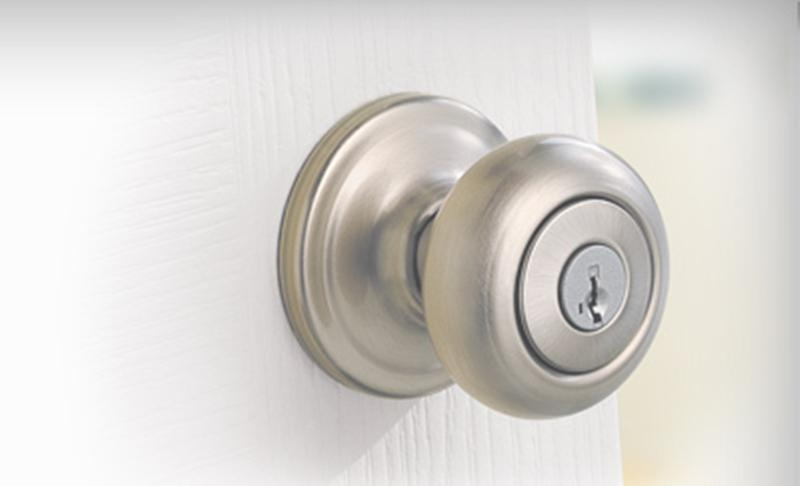doorhandle: (321, 85, 721, 435)
